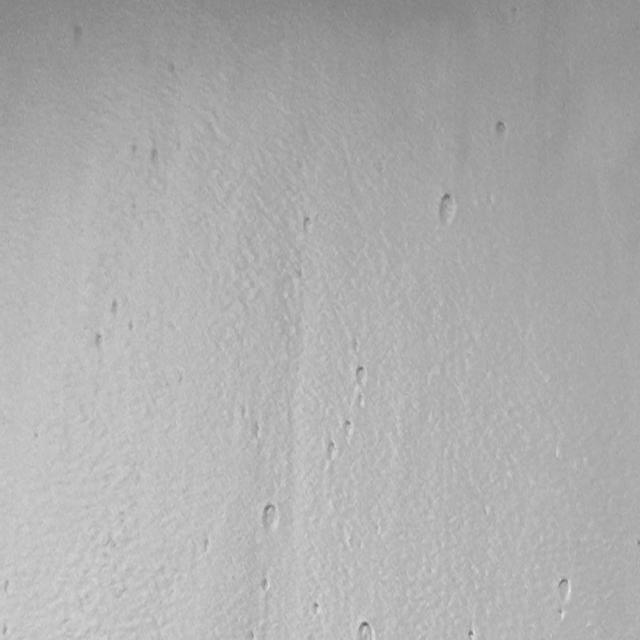pin holes: (435, 192, 459, 228), (259, 501, 281, 534), (554, 575, 576, 607), (354, 618, 379, 640), (490, 117, 509, 144), (353, 364, 370, 388), (70, 23, 87, 47), (92, 331, 109, 353), (108, 297, 125, 319), (1, 577, 16, 600), (326, 438, 340, 462), (302, 215, 315, 235), (342, 417, 354, 438), (310, 601, 323, 619), (252, 423, 264, 442), (0, 621, 12, 639), (260, 576, 272, 592), (467, 626, 480, 639), (246, 628, 256, 639)
